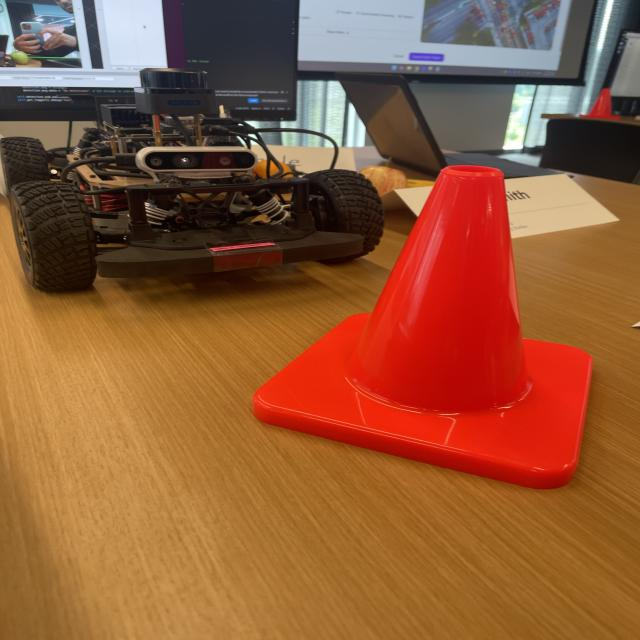Traffic Cone: (247, 151, 612, 514)
